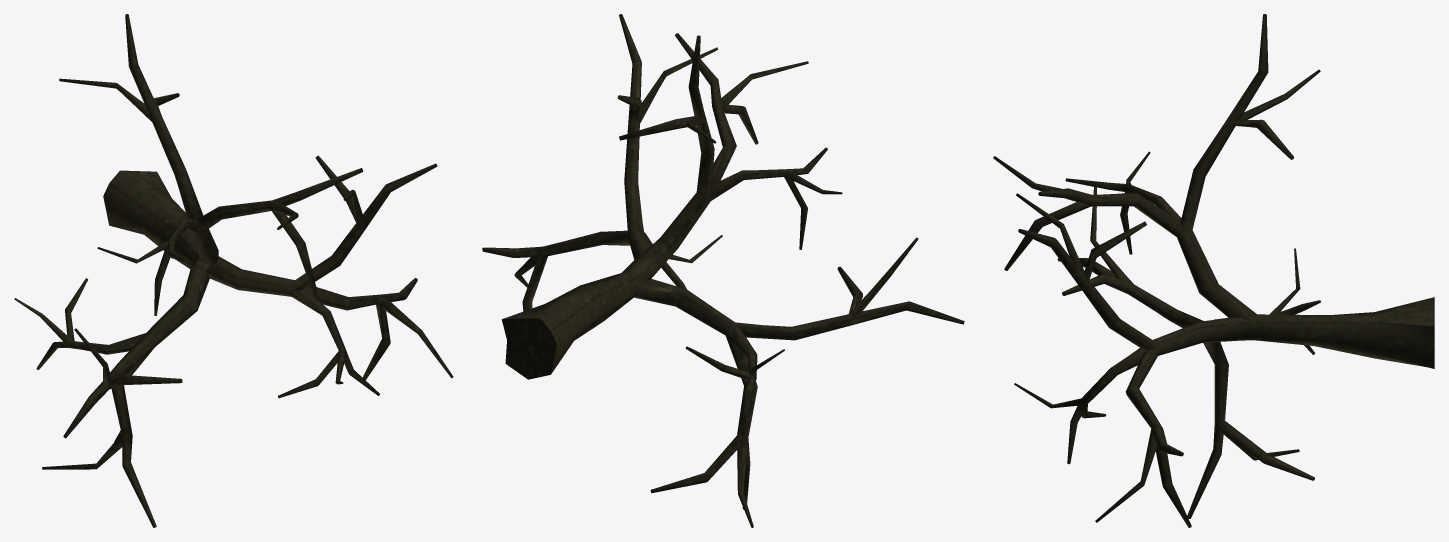
File: tree.obj
The picture shows the model from 3 angles, left to right: view 1: azimuth 30°, elevation 25°; view 2: azimuth 150°, elevation 25°; view 3: azimuth 270°, elevation 25°; orthographic projection. The views are drawn at different scales.
Visible parts, largest first — view 1: Mesh_tree; view 2: Mesh_tree; view 3: Mesh_tree.
Part boxes in pixels (box(x1,y1,x2,y2)): Mesh_tree: box(14, 14, 453, 527); Mesh_tree: box(482, 14, 964, 527); Mesh_tree: box(993, 14, 1434, 527).
Size of the model in its own units: 5.51 by 6.2 by 4.87.
Materials: 1 (1 with a texture image).
